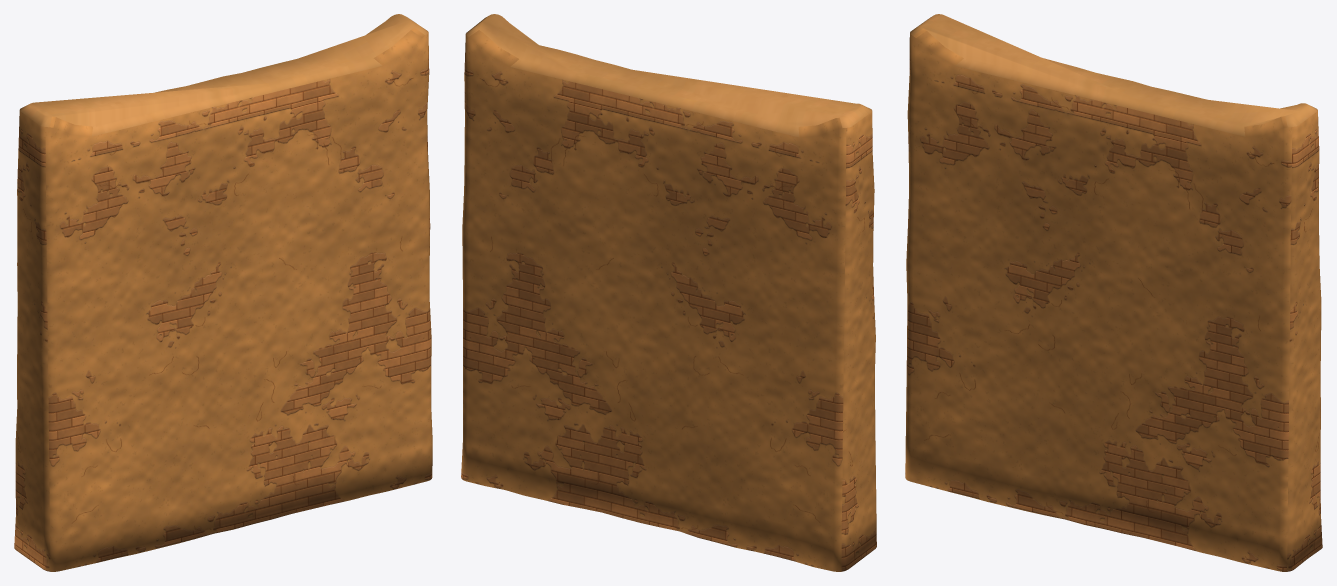
Rendered from wall.glb.
3 renders of one model, left to right at view 1: azimuth 30°, elevation 25°; view 2: azimuth 150°, elevation 25°; view 3: azimuth 330°, elevation 25°, orthographic.
Visible parts, largest first — view 1: wall; view 2: wall; view 3: wall.
Boxes of the visible parts, bbox=[...] form: wall: bbox=[14, 14, 432, 571]; wall: bbox=[461, 14, 876, 571]; wall: bbox=[905, 14, 1322, 571].
Bounding box in the file's own units: 4.07 × 4.48 × 0.7161.
2 materials, 2 textured.
